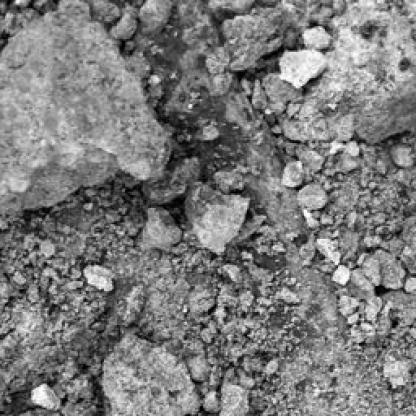cementitious_debris: (0, 0, 414, 416)
